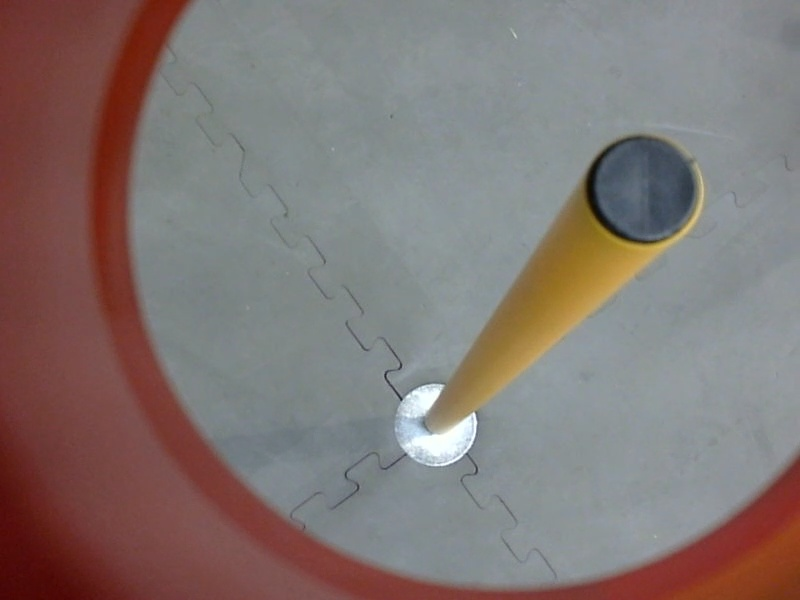tip: (578, 119, 710, 252)
